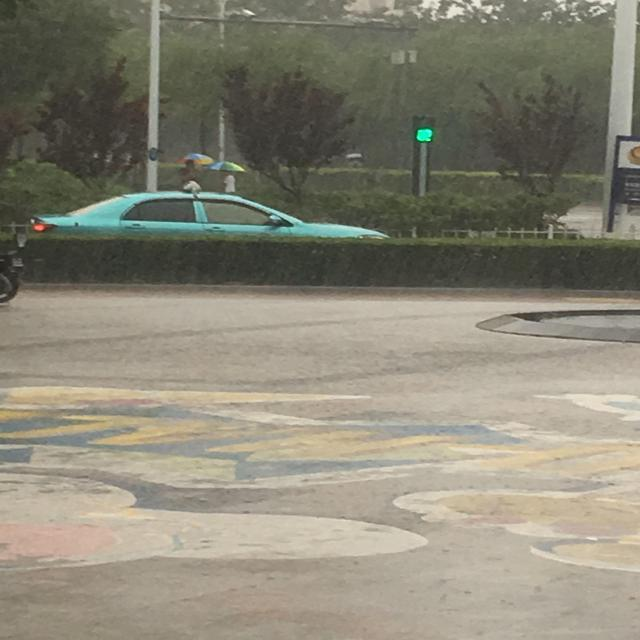car: (33, 194, 390, 238)
